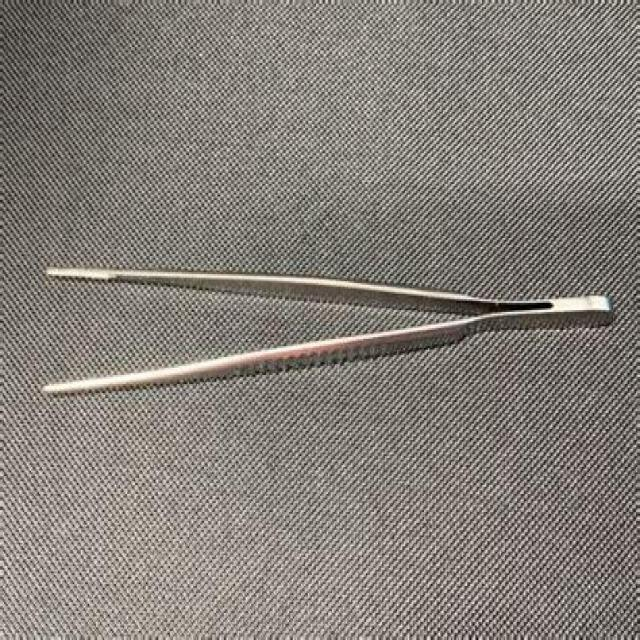Forceps: (39, 260, 618, 402)
